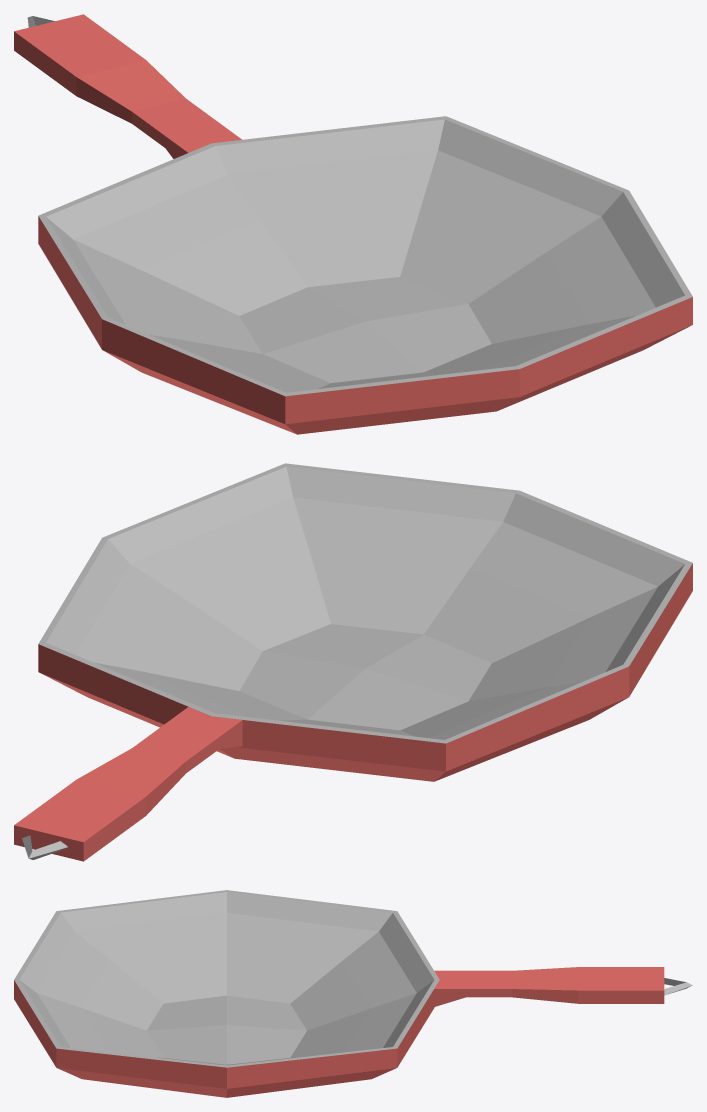
Rendered from frying pan.fbx.
3 views of the same model, one above another, from view 1: azimuth 30°, elevation 25°; view 2: azimuth 150°, elevation 25°; view 3: azimuth 270°, elevation 25° (orthographic). The views are drawn at different scales.
Parts seen in each view (by area): view 1: Cube; view 2: Cube; view 3: Cube.
Part boxes in pixels (x1,y1,x2,y2): Cube: [14, 14, 692, 434]; Cube: [14, 463, 692, 861]; Cube: [14, 890, 692, 1097].
Size of the model in its own units: 74.93 by 13 by 121.
